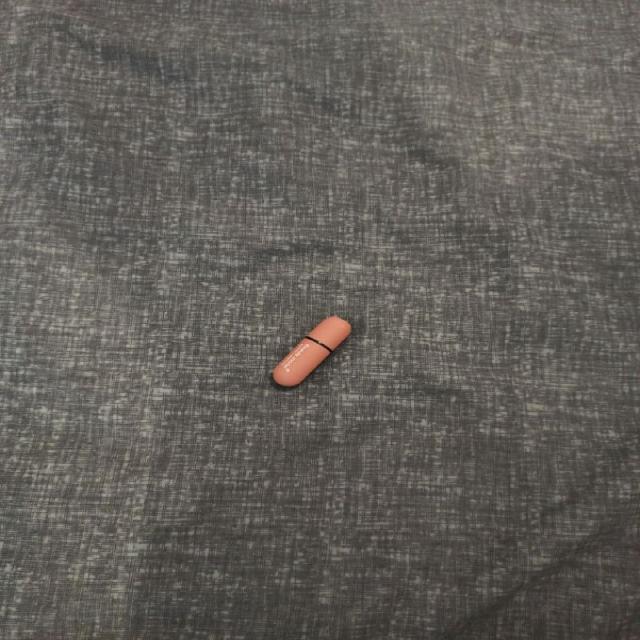lipstick: (270, 314, 352, 388)
